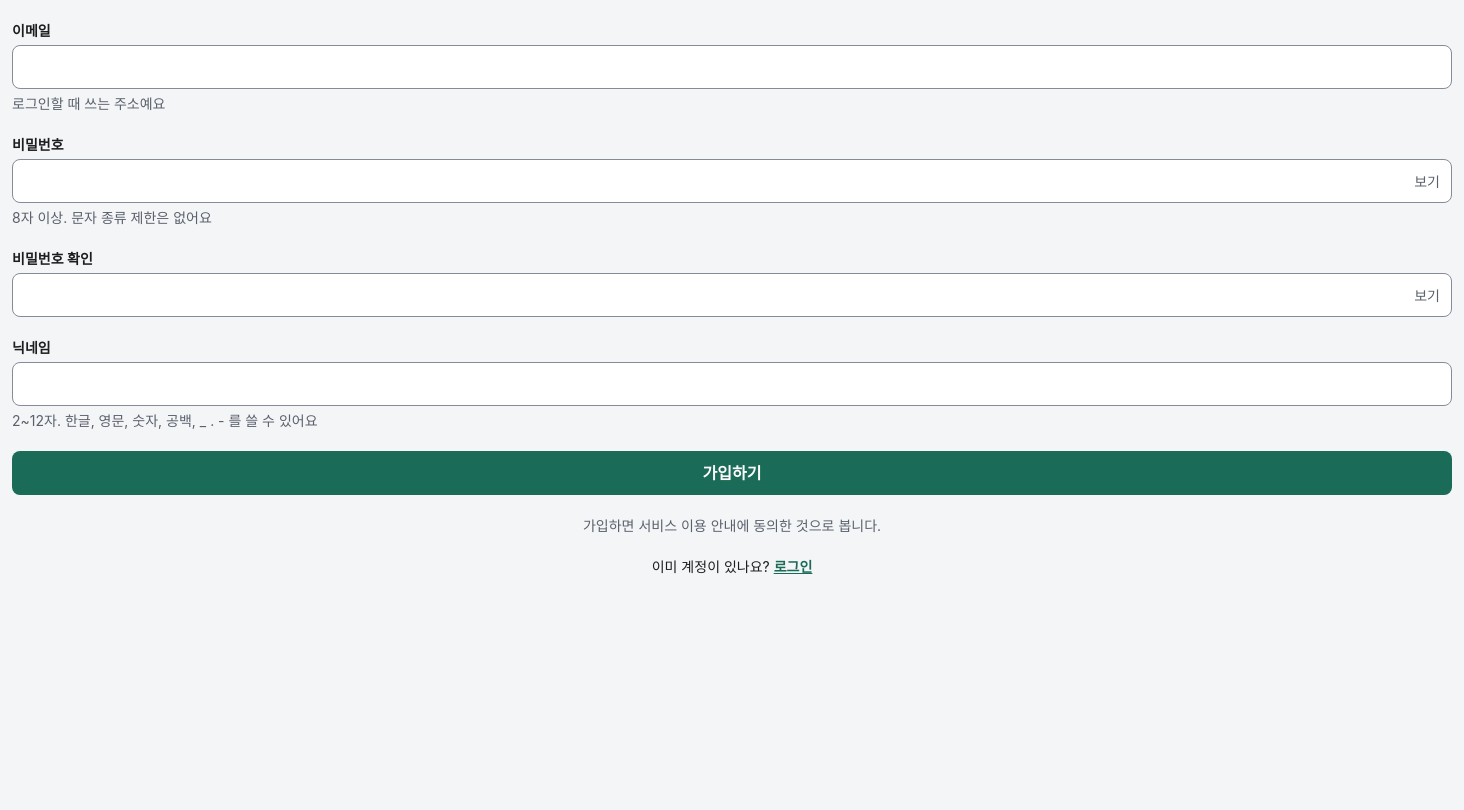
가입 폼 › [AC-SU-03, AC-CM-62] 칸을 떠날 때 정규화한 값을 칸에 넣고 검증하며, 오류가 있던 칸은 입력마다 다시 검증한다
Type "  KIM@Example.com " into the field labelled "이메일" at (732,67), box top-left (12, 45), bottom-right (1452, 89)
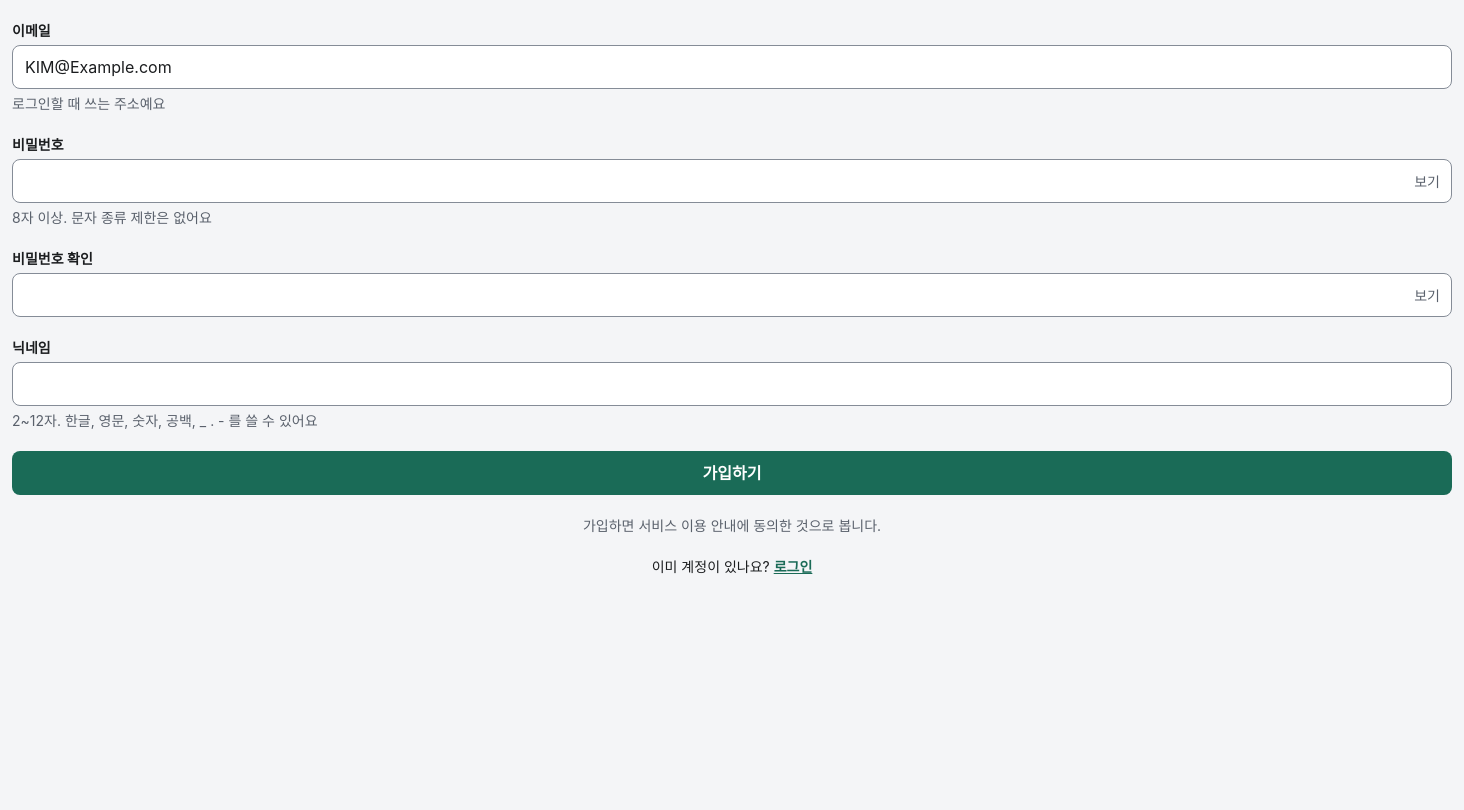
Leave the field labelled "이메일", box top-left (12, 45), bottom-right (1452, 89)
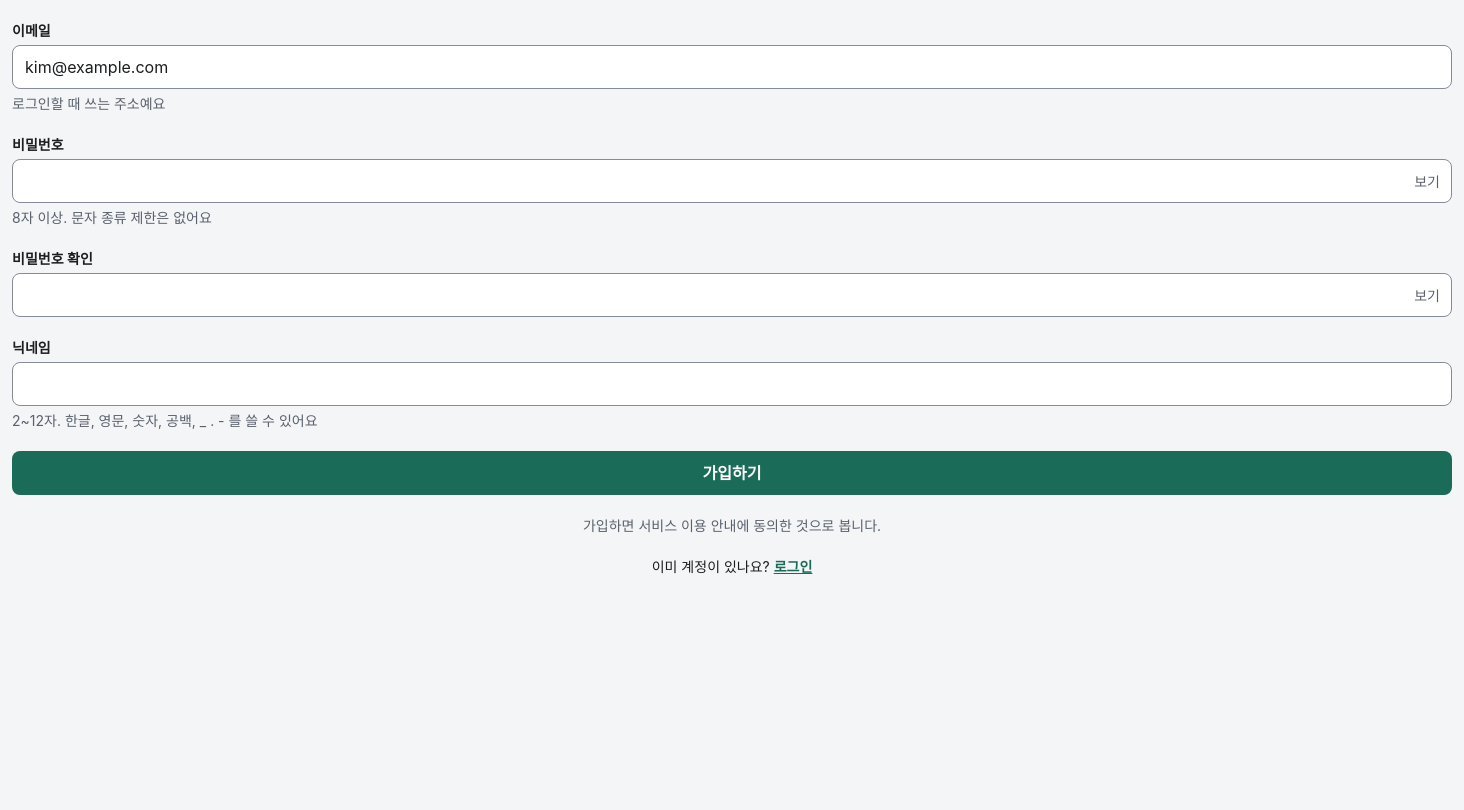
Type "short" into the password field labelled "비밀번호" at (732,181), box top-left (12, 159), bottom-right (1452, 203)
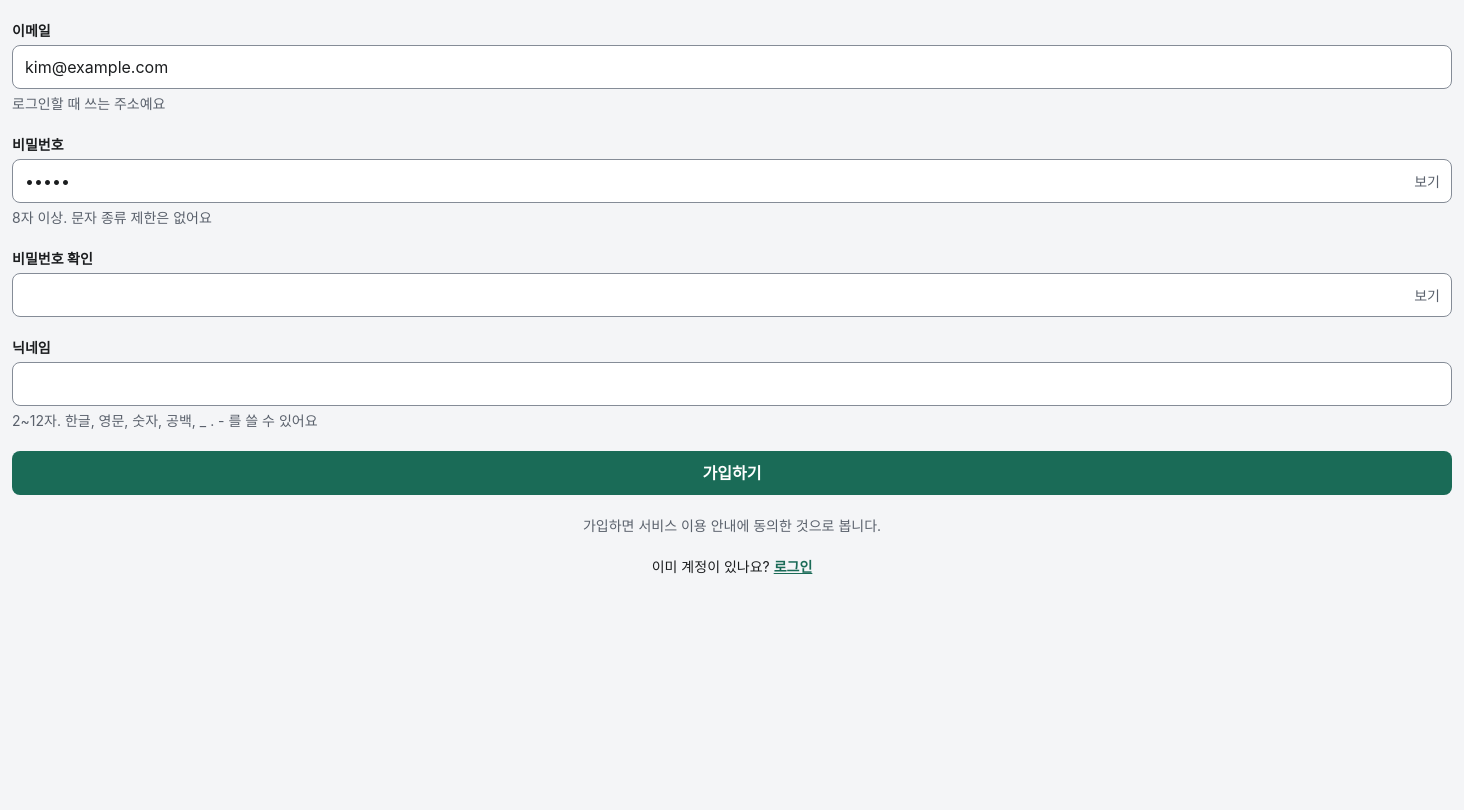
expect the text "8자 이상 입력해 주세요" is not shown: met
Leave the password field labelled "비밀번호", box top-left (12, 159), bottom-right (1452, 203)
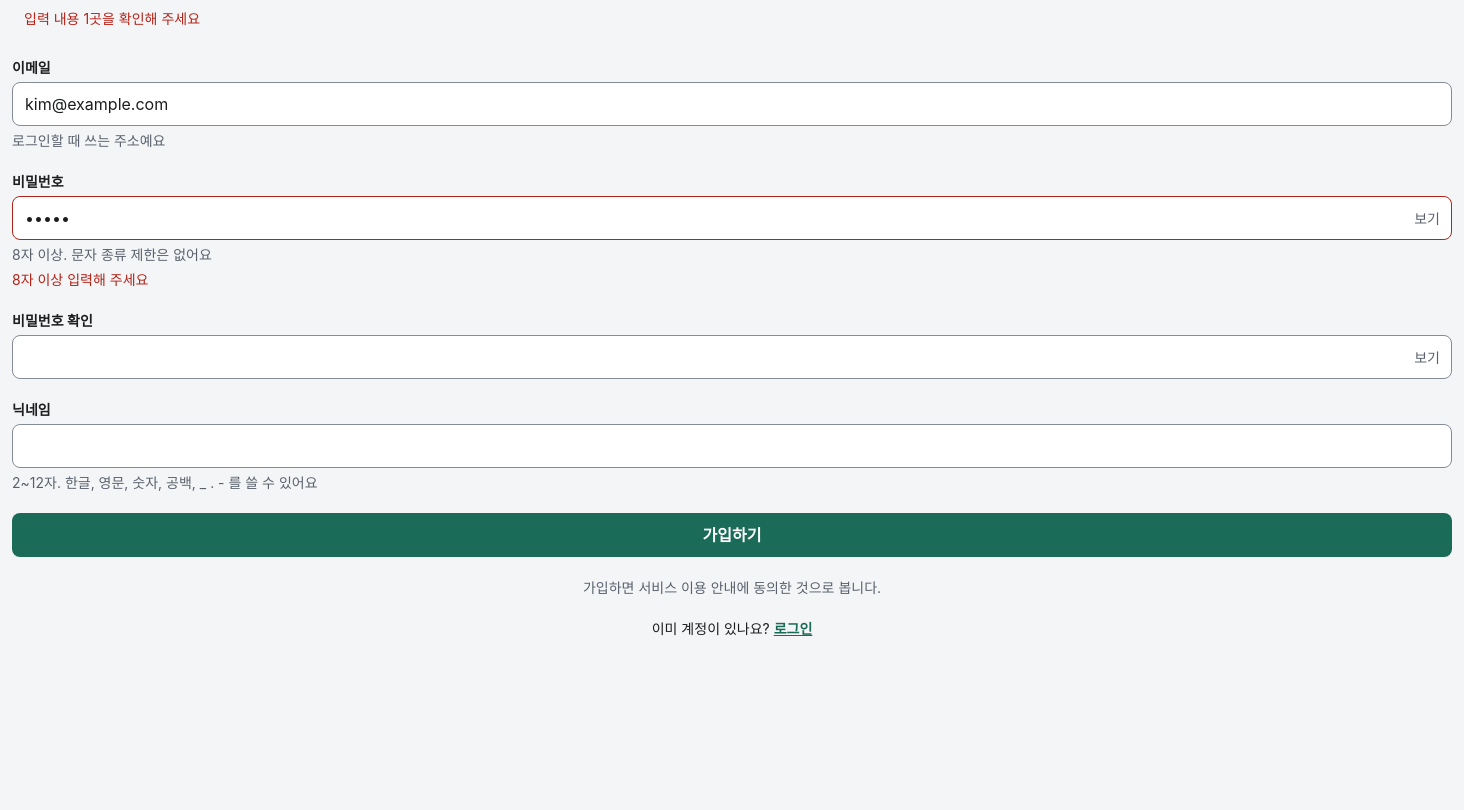
expect the text "8자 이상 입력해 주세요" is shown: met, box top-left (12, 271), bottom-right (148, 288)
Type "long enough" into the password field labelled "비밀번호" at (732,218), box top-left (12, 196), bottom-right (1452, 240)
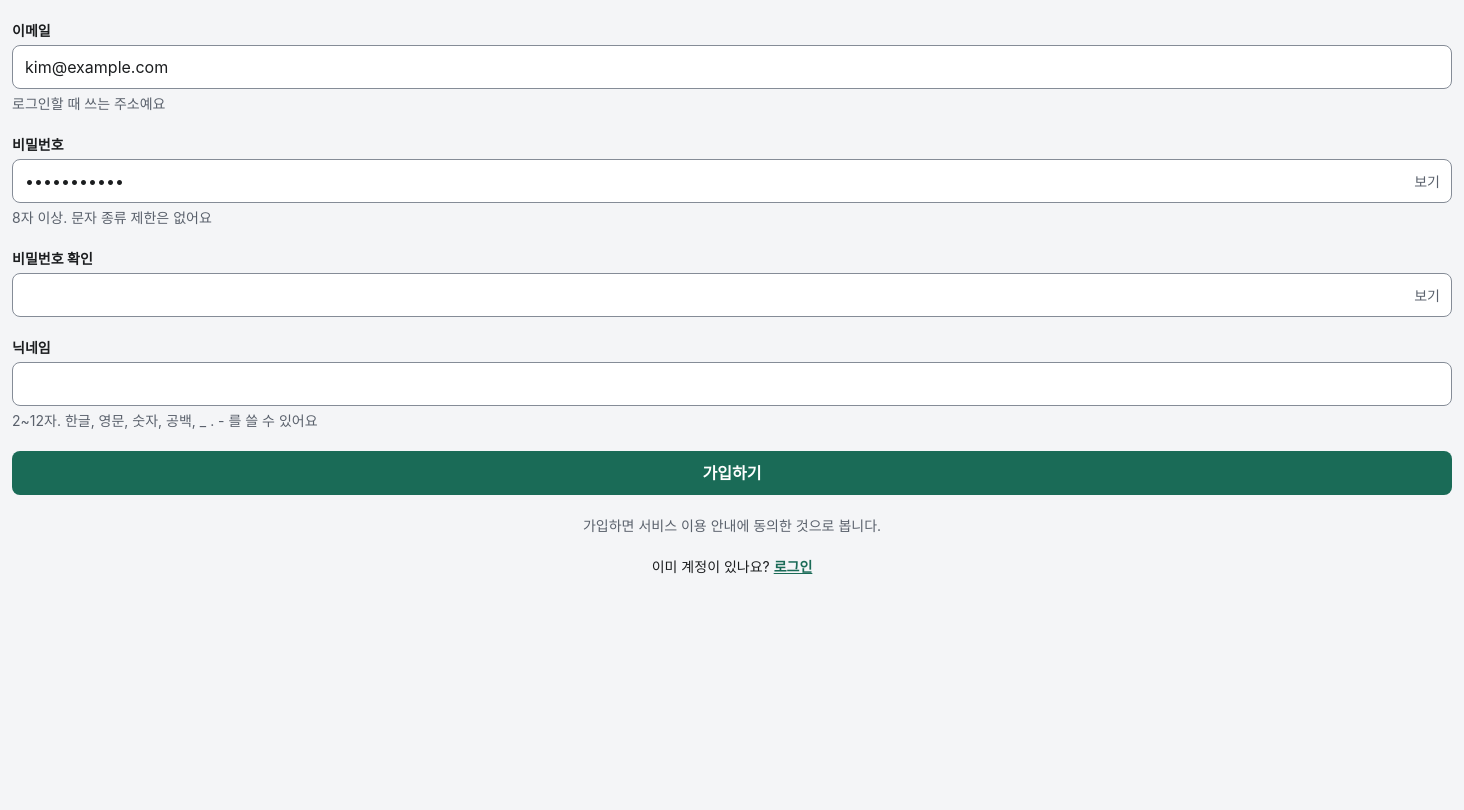
expect the text "8자 이상 입력해 주세요" is gone: met
